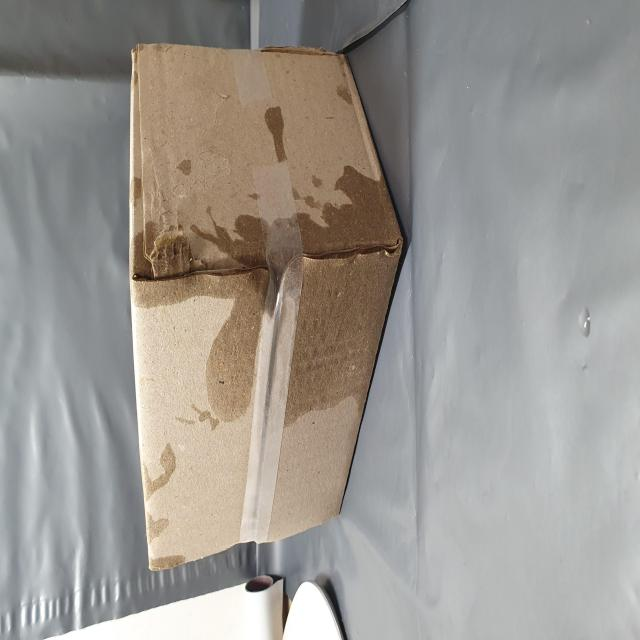wet: (126, 337, 276, 640)
